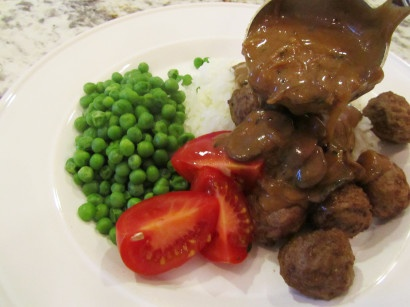background: (41, 1, 262, 143)
